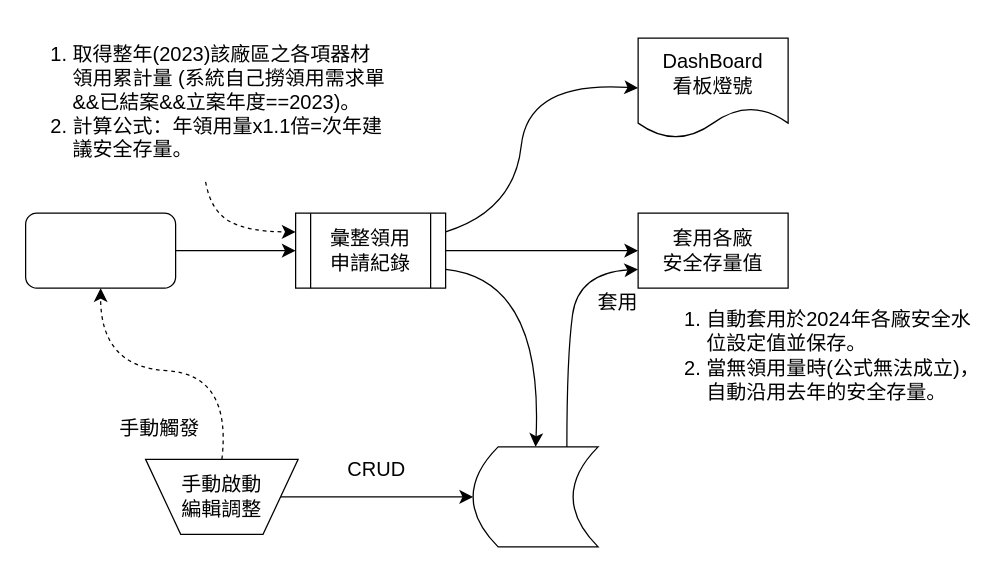
This 1006x569 diagram has some shape labels left out. The shapes that lost their labels are listed below. From the top down, each one's centre as x and y in pixels, then its label:
At [100,250]: "每年初第一天01:00啟動".
At [535,496]: "儲存 資料庫".
